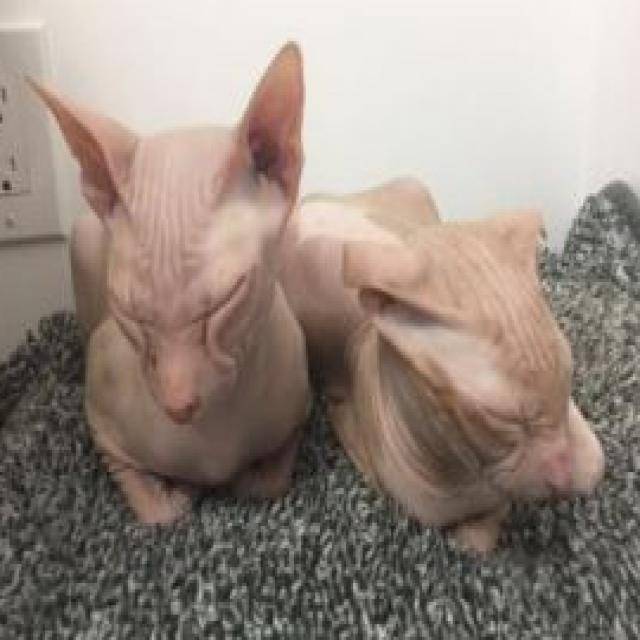Sphynx: (20, 34, 318, 530), (292, 171, 608, 556)
